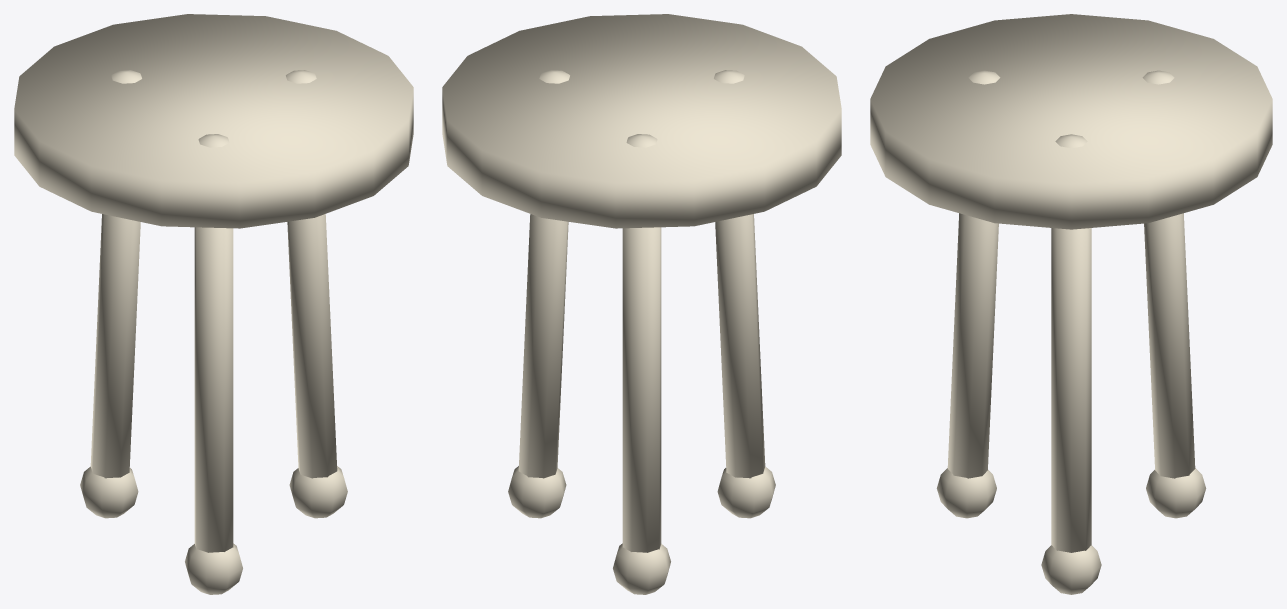
Rendered from stool_bone.glb.
3 views of the same model, side by side, from view 1: azimuth 30°, elevation 25°; view 2: azimuth 150°, elevation 25°; view 3: azimuth 270°, elevation 25° (orthographic).
Parts seen in each view (by area): view 1: GD_stool_bone__m0; view 2: GD_stool_bone__m0; view 3: GD_stool_bone__m0.
Part boxes in pixels (x1,y1,x2,y2): GD_stool_bone__m0: [14, 14, 413, 594]; GD_stool_bone__m0: [442, 14, 841, 594]; GD_stool_bone__m0: [870, 14, 1272, 594].
Bounding box in the file's own units: 0.4 × 0.49 × 0.4.
